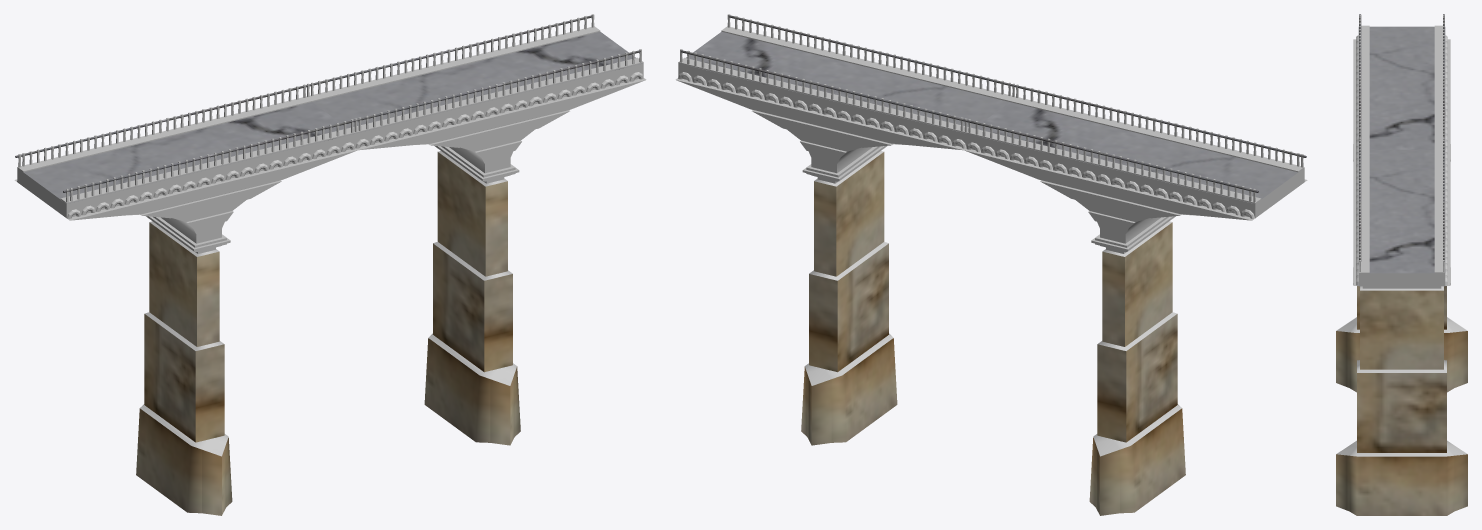
File: pont.obj
3 views of the same model, side by side, from view 1: azimuth 30°, elevation 25°; view 2: azimuth 150°, elevation 25°; view 3: azimuth 270°, elevation 25° (orthographic). The views are drawn at different scales.
Parts seen in each view (by area): view 1: polySurface175_Mesh.003, polySurface172_Mesh.001; view 2: polySurface175_Mesh.003, polySurface172_Mesh.001; view 3: polySurface172_Mesh.001, polySurface175_Mesh.003.
Boxes of the visible parts, bbox=[...] form: polySurface175_Mesh.003: bbox=[14, 84, 357, 515]; polySurface172_Mesh.001: bbox=[306, 14, 646, 445]; polySurface175_Mesh.003: bbox=[964, 84, 1307, 515]; polySurface172_Mesh.001: bbox=[675, 14, 1016, 445]; polySurface172_Mesh.001: bbox=[1336, 138, 1467, 515]; polySurface175_Mesh.003: bbox=[1336, 14, 1467, 392].
Bounding box in the file's own units: 0.74 × 0.4282 × 0.1663.
